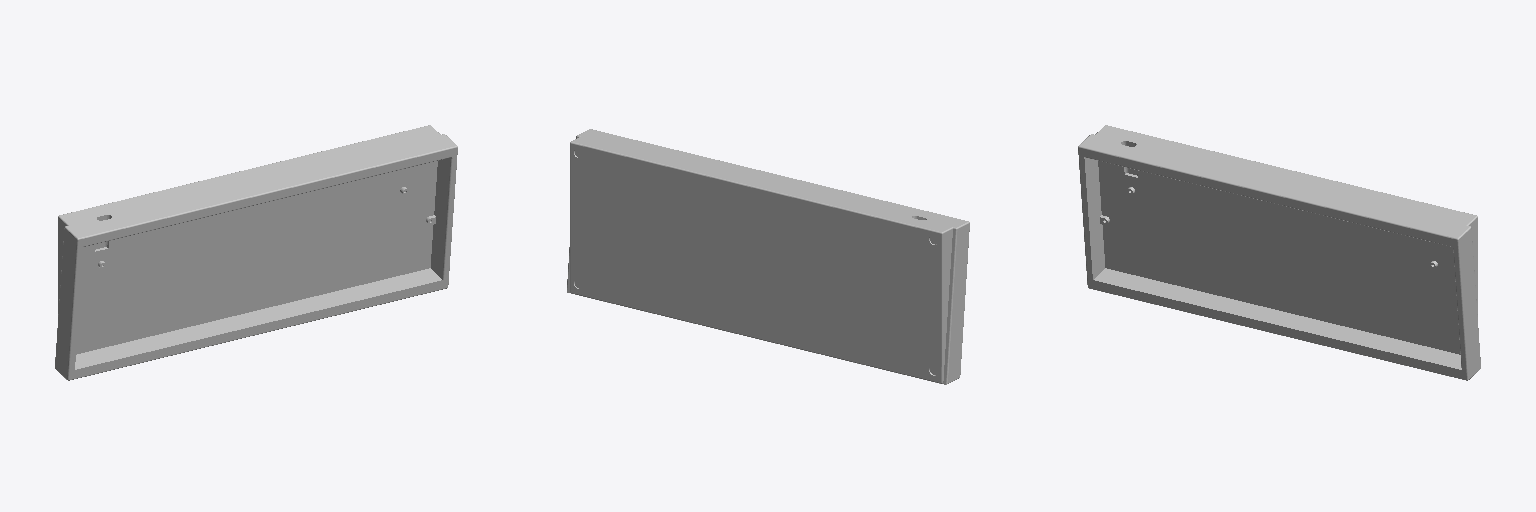
The picture shows the model from 3 angles: view 1: azimuth 30°, elevation 25°; view 2: azimuth 150°, elevation 25°; view 3: azimuth 330°, elevation 25°; orthographic projection.
Parts seen in each view (by area): view 1: obj_[number redacted]; view 2: obj_[number redacted]; view 3: obj_[number redacted].
Boxes of the visible parts, box(x1,y1,x2,y2) form: obj_[number redacted]: box(55, 125, 457, 380); obj_[number redacted]: box(567, 129, 969, 384); obj_[number redacted]: box(1078, 125, 1480, 380).
Bounding box in the file's own units: 297 × 115 × 32.64.